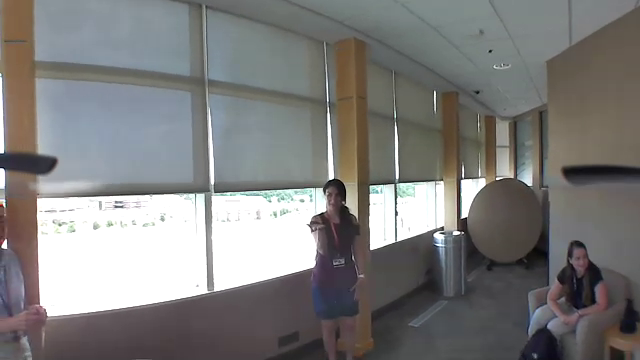land: (303, 221, 329, 234)
